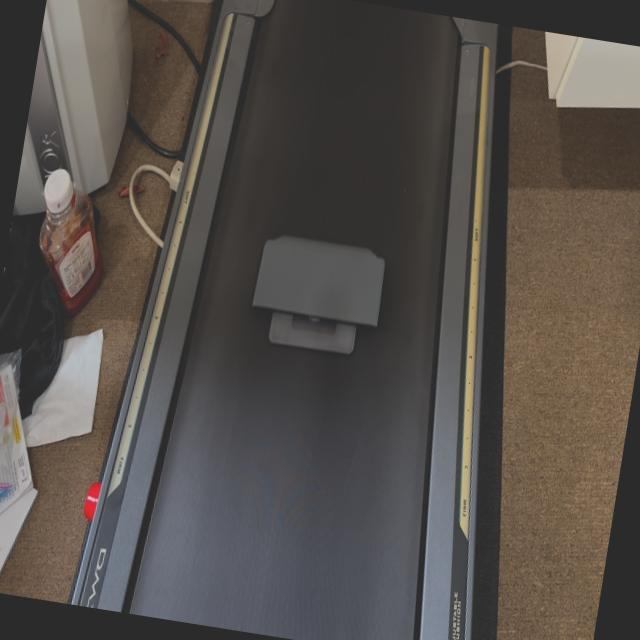Trash: (248, 230, 390, 356)
